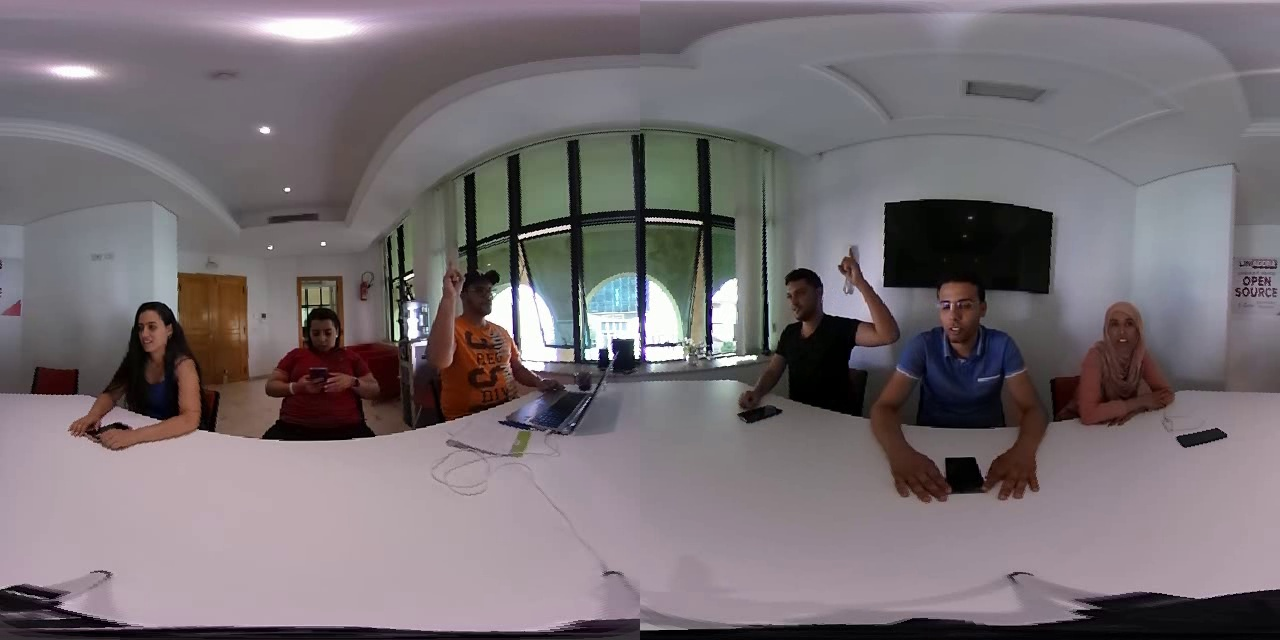hand_up: (836, 236, 904, 359), (417, 245, 473, 376)
person: (871, 255, 1051, 504), (407, 238, 592, 430), (731, 224, 899, 418), (61, 294, 213, 459), (253, 293, 389, 450), (1066, 296, 1184, 432)
